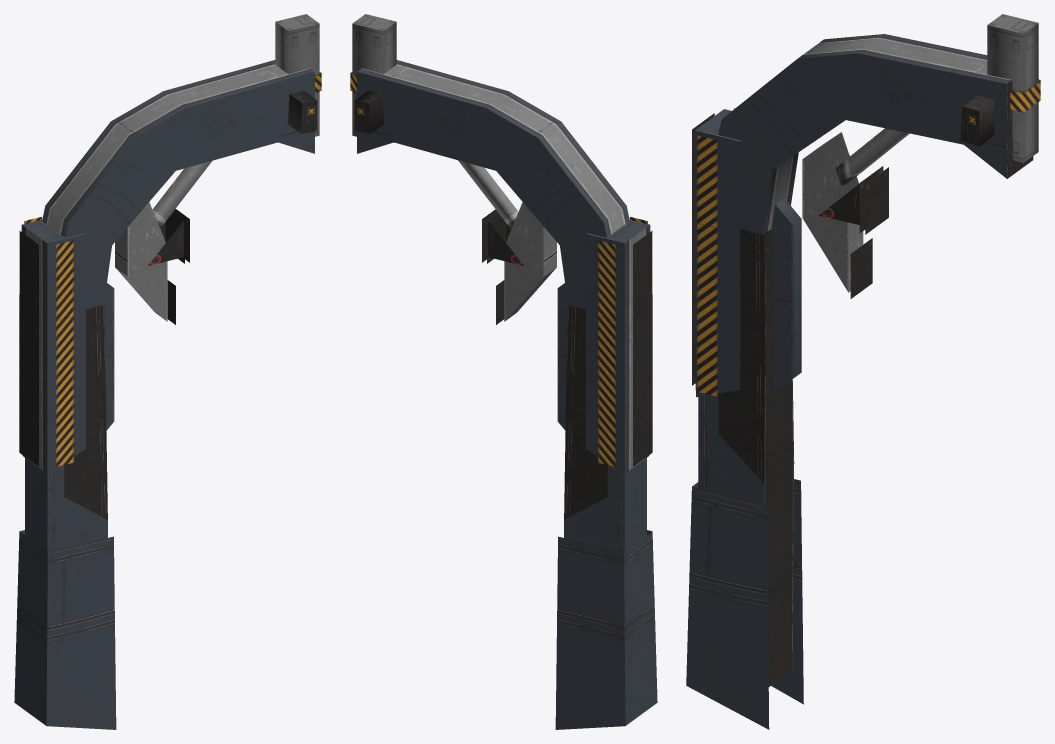
Rendered from Crane_2B_L4.fbx.
3 renders of one model, left to right at view 1: azimuth 30°, elevation 25°; view 2: azimuth 150°, elevation 25°; view 3: azimuth 330°, elevation 25°, orthographic. The views are drawn at different scales.
Parts seen in each view (by area): view 1: Crane_2B_L4; view 2: Crane_2B_L4; view 3: Crane_2B_L4.
Part boxes in pixels (x1,y1,x2,y2): Crane_2B_L4: (14, 14, 321, 729); Crane_2B_L4: (350, 14, 657, 729); Crane_2B_L4: (686, 14, 1040, 729).
Size of the model in its own units: 345 by 749 by 105.
